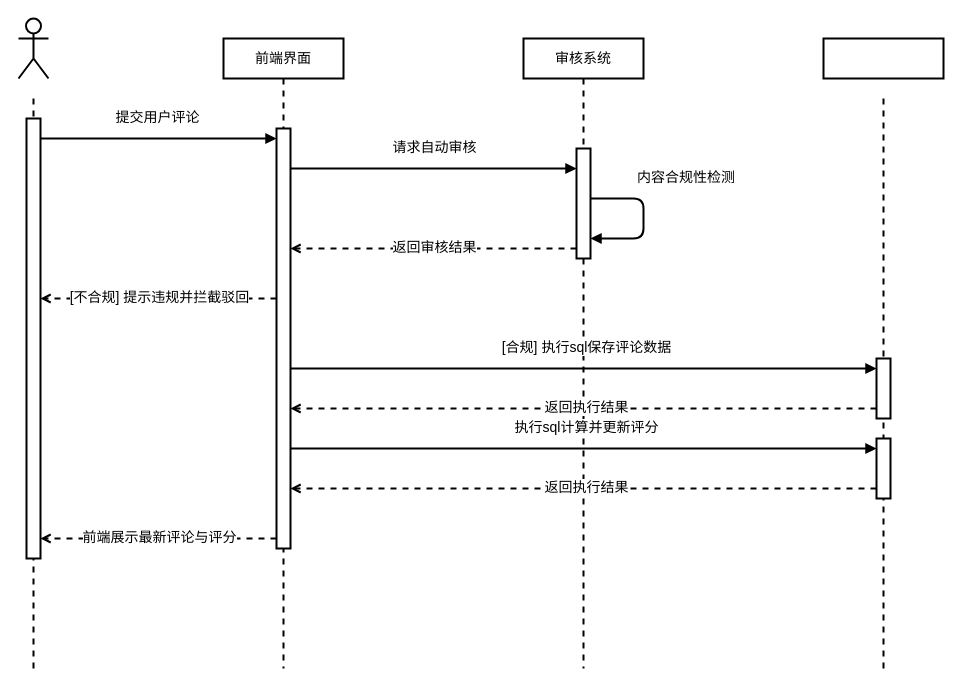
Image size: 961x687. Some labels were removed from this diagram. Each missing label, with the box of its shape:
数据库: (822, 37, 944, 79)
用户: (17, 17, 49, 79)
